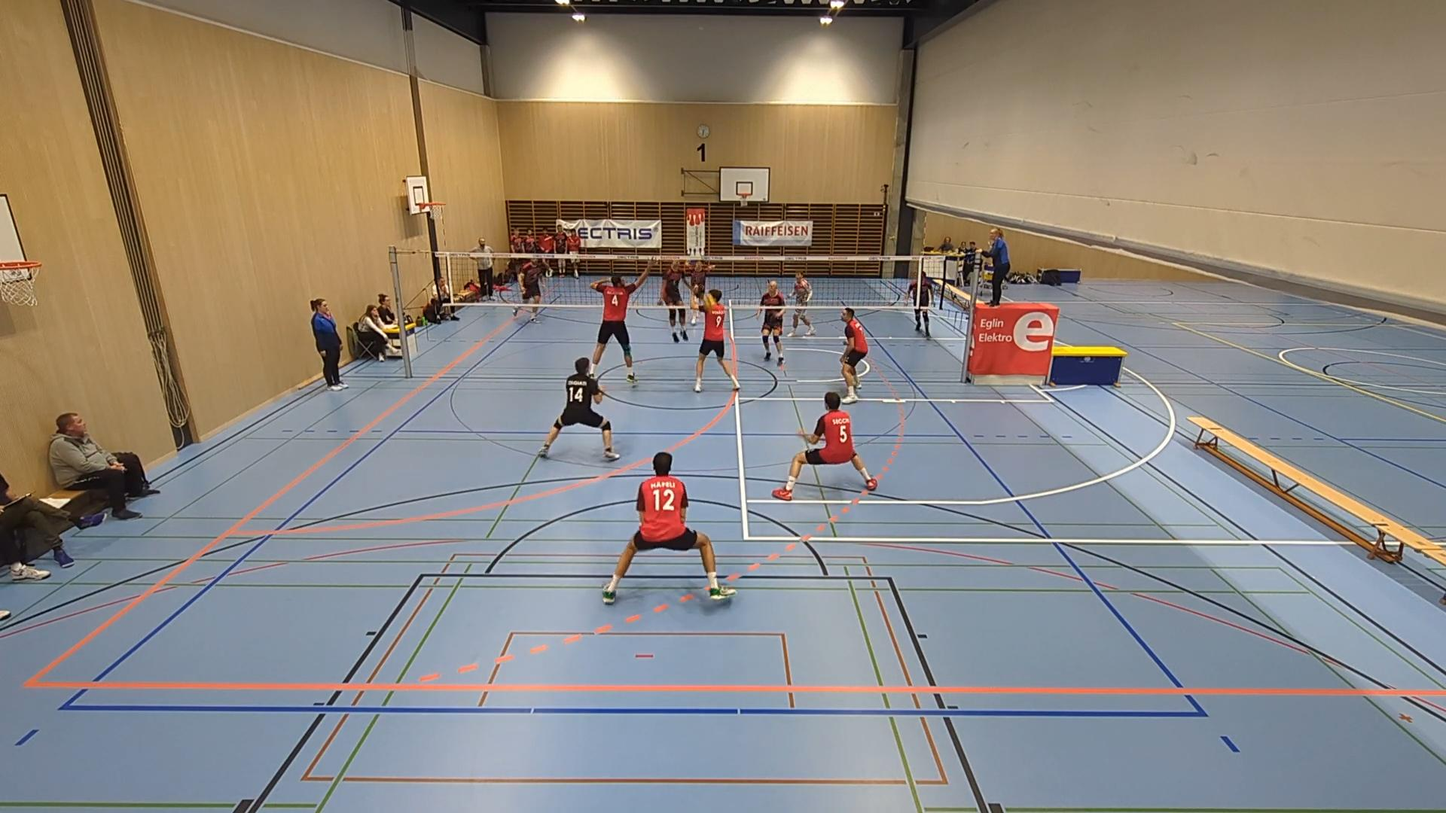attacco: (649, 246, 700, 352)
muro: (590, 260, 658, 388), (682, 267, 741, 398)
